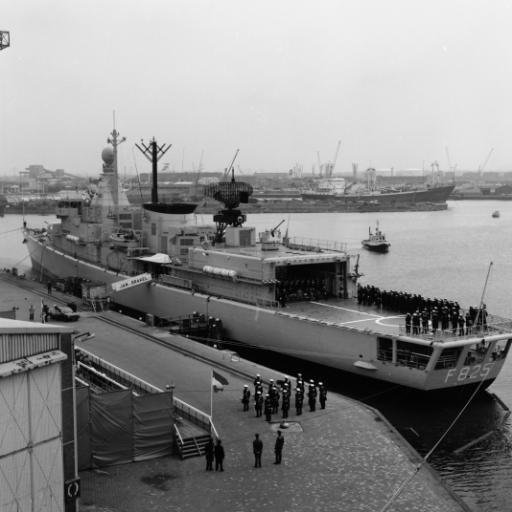Fragata: (12, 117, 512, 392)
